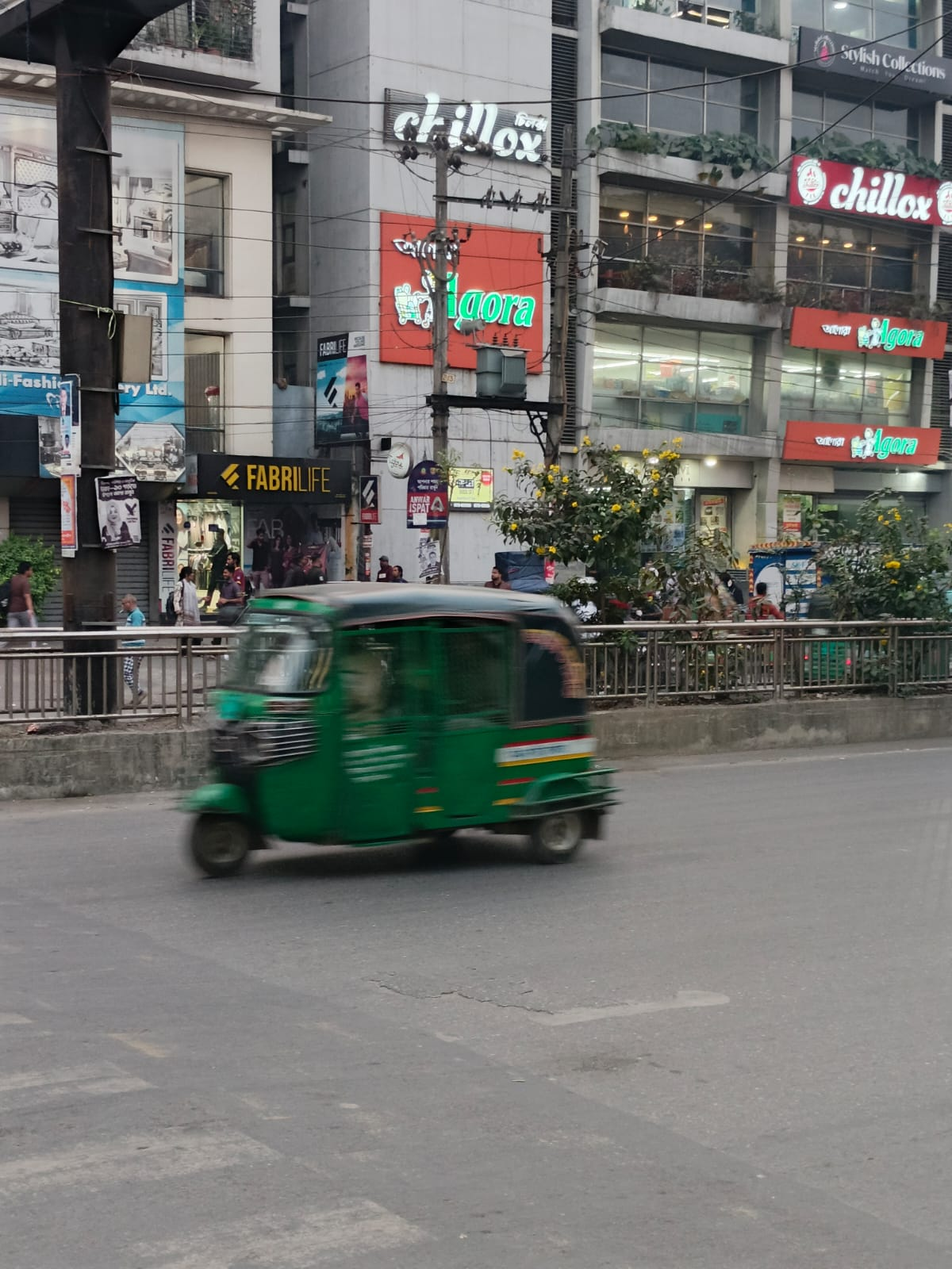cng: (153, 561, 683, 910)
